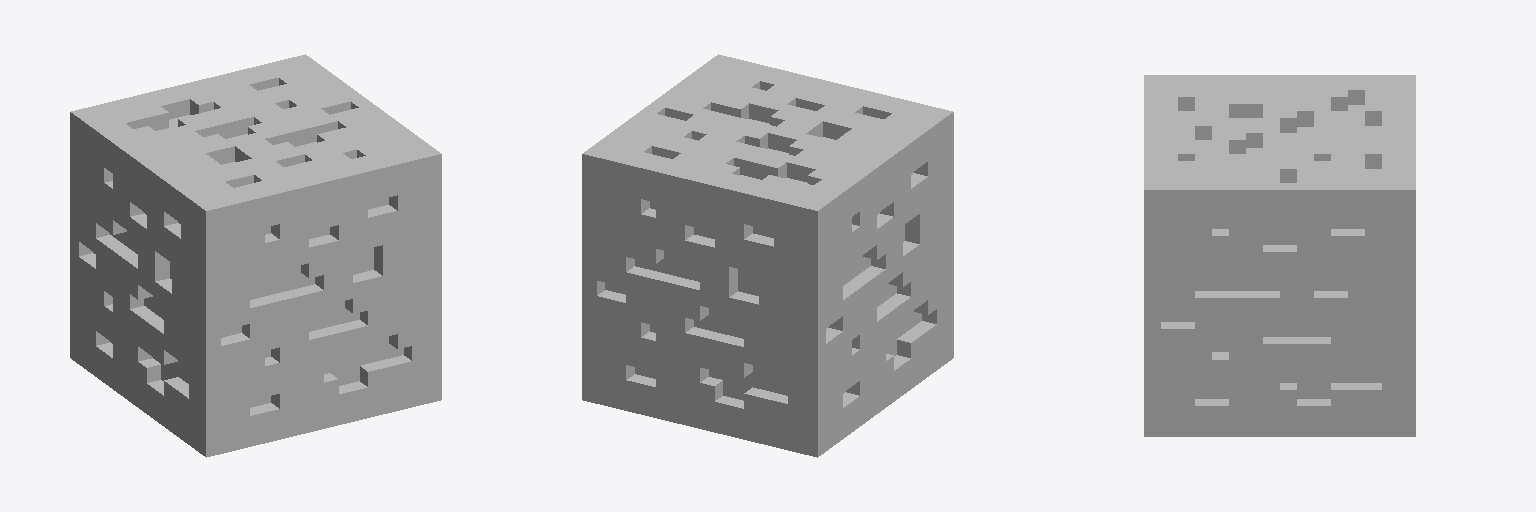
Rendered from Mena de diamante.obj.
3 renders of one model, left to right at view 1: azimuth 30°, elevation 25°; view 2: azimuth 150°, elevation 25°; view 3: azimuth 270°, elevation 25°, orthographic.
Parts seen in each view (by area): view 1: object 1; view 2: object 1; view 3: object 1.
Boxes of the visible parts, box(x1,y1,x2,y2) form: object 1: box(70, 54, 441, 457); object 1: box(582, 54, 953, 457); object 1: box(1144, 75, 1415, 436).
Bounding box in the file's own units: 1.6 × 1.6 × 1.6.